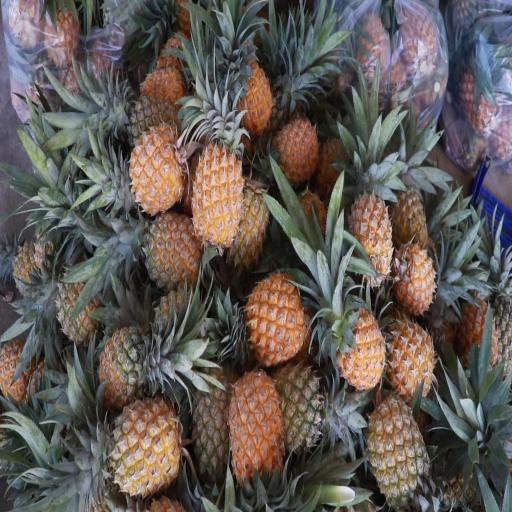------------------------------: (360, 385, 428, 512), (188, 348, 240, 489), (260, 354, 330, 450), (92, 320, 170, 406), (53, 262, 104, 347)
Pineapple - v8 v1: (101, 390, 182, 502), (224, 360, 283, 494), (240, 265, 306, 369), (191, 125, 244, 250), (124, 118, 187, 219), (135, 208, 205, 298), (343, 161, 393, 284), (330, 292, 388, 394), (226, 154, 272, 268), (382, 301, 435, 398), (266, 105, 320, 188), (384, 162, 429, 256), (386, 237, 436, 319), (230, 48, 273, 132)
